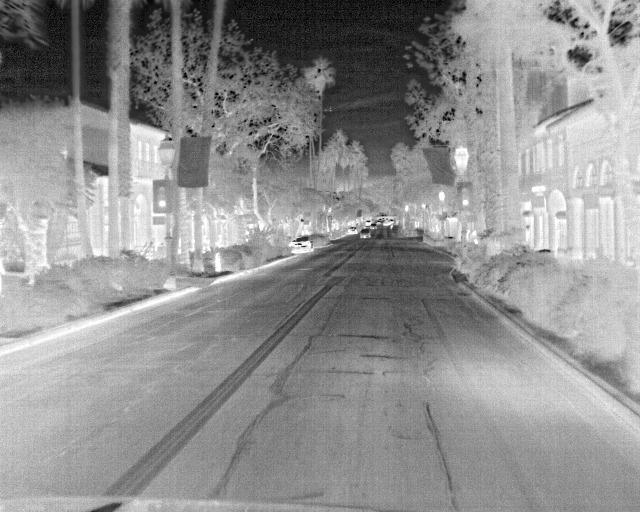car: (287, 234, 315, 253), (348, 221, 362, 235), (358, 226, 371, 240)
